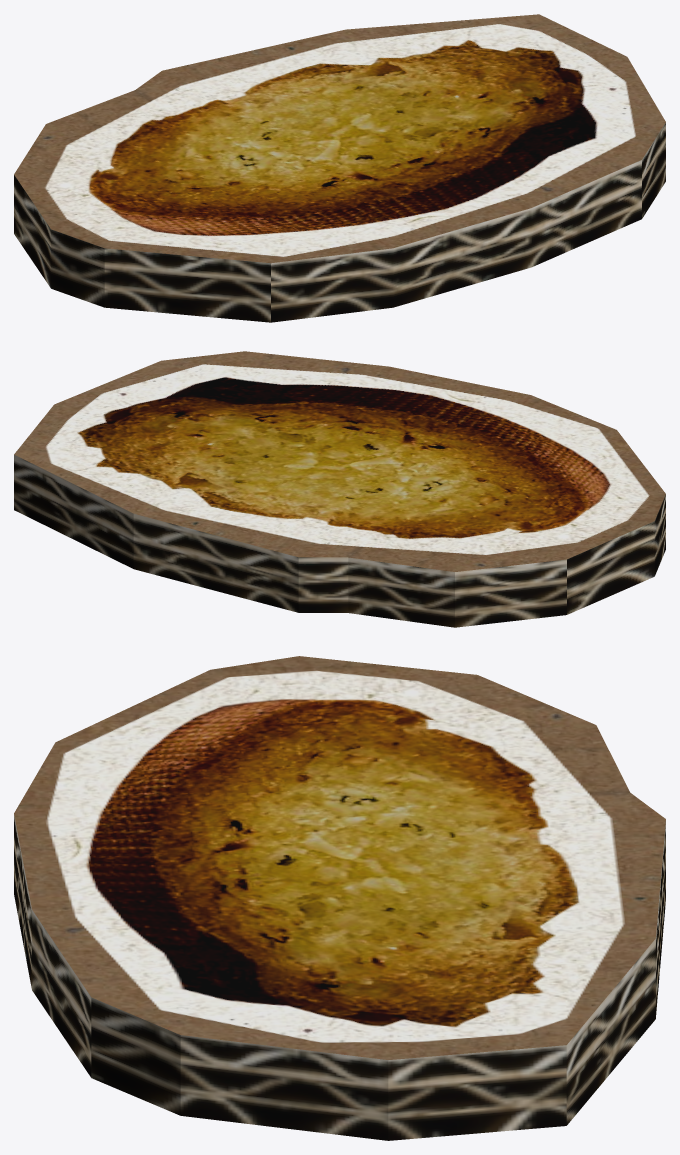
Rendered from BreadSlice.obj.
The picture shows the model from 3 angles, top to bottom: view 1: azimuth 30°, elevation 25°; view 2: azimuth 150°, elevation 25°; view 3: azimuth 270°, elevation 25°; orthographic projection. The views are drawn at different scales.
Visible parts, largest first — view 1: Plane; view 2: Plane; view 3: Plane.
Boxes of the visible parts, <box> form: Plane: <box>14,14,665,322</box>; Plane: <box>14,351,665,627</box>; Plane: <box>14,656,665,1140</box>.
Size of the model in its own units: 3.22 by 0.3 by 2.2.
